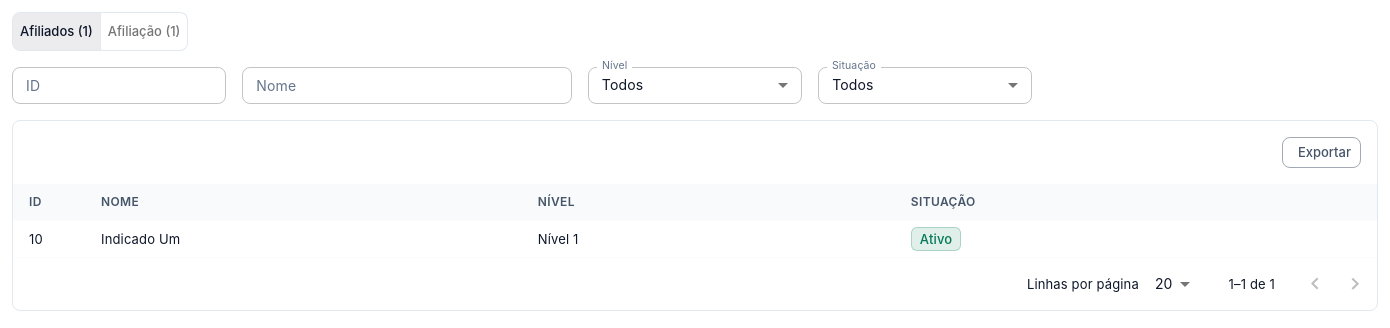
Scenario: NetworkTable › mostra "Afiliados" (guests) por padrão e alterna para "Afiliação" (affiliates)
Expected: the link "Indicado Um" is shown, [101, 231, 180, 247]
Expected: the text "Quem Indicou" is not shown
Click the button "Afiliação (1)": (144, 31) [100, 12, 188, 51]
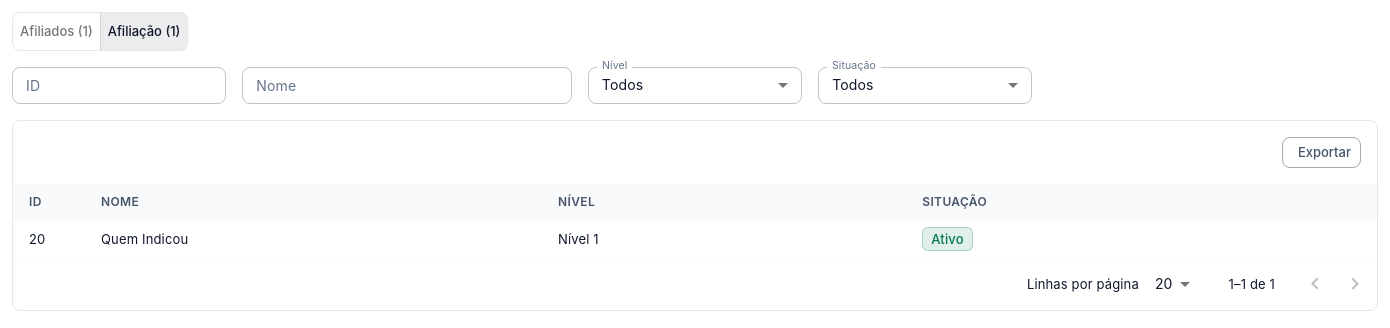
Expected: the link "Quem Indicou" is shown, [101, 231, 188, 247]
Expected: the link "Indicado Um" is gone
